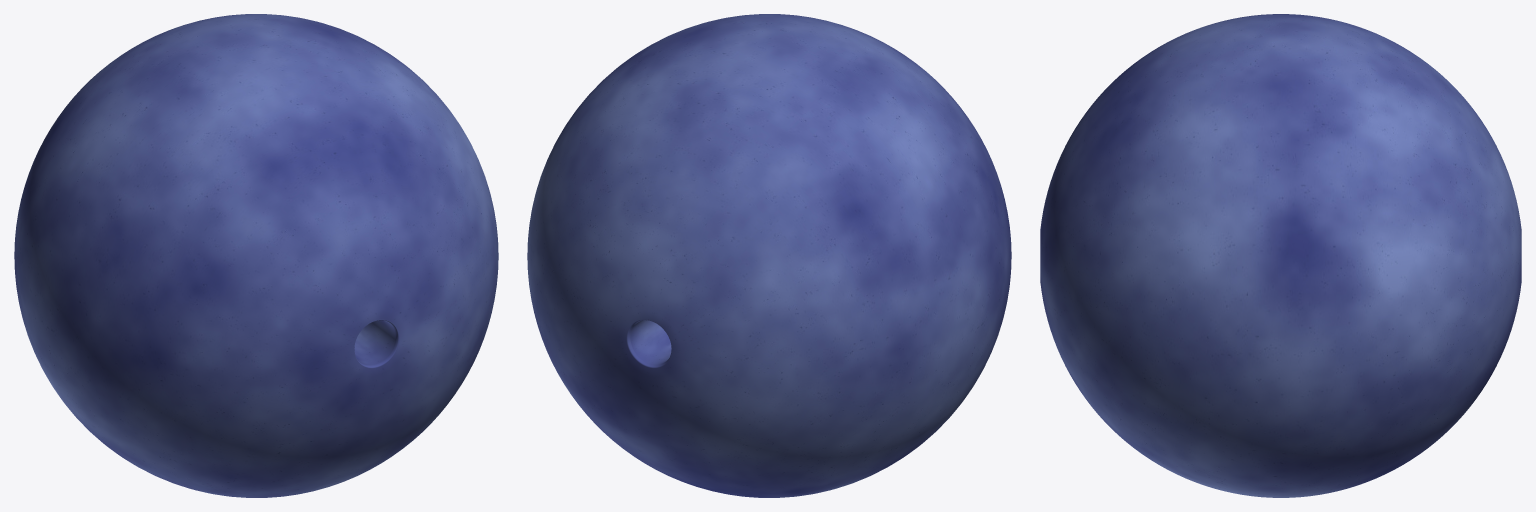
The model's file is tanzanite-10mm.glb.
The picture shows the model from 3 angles, left to right: view 1: azimuth 30°, elevation 25°; view 2: azimuth 150°, elevation 25°; view 3: azimuth 270°, elevation 25°; orthographic projection.
Visible parts, largest first — view 1: tanzanite.001; view 2: tanzanite.001; view 3: tanzanite.001.
Boxes of the visible parts, left/top/right/bottom form: tanzanite.001: left=14, top=14, right=498, bottom=497; tanzanite.001: left=527, top=14, right=1011, bottom=497; tanzanite.001: left=1040, top=14, right=1521, bottom=497.
Size of the model in its own units: 0.01 by 0.01 by 0.00994.
Materials: 2 (1 with a texture image).
